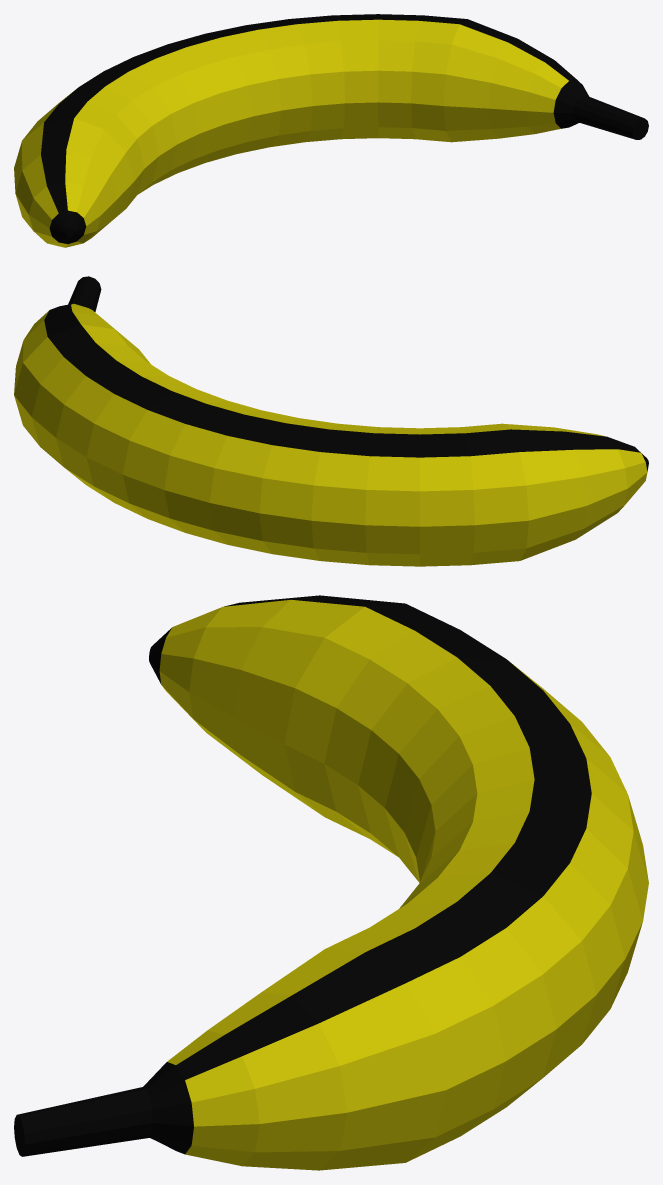
The model's file is banana.obj.
3 renders of one model, top to bottom at view 1: azimuth 30°, elevation 25°; view 2: azimuth 150°, elevation 25°; view 3: azimuth 270°, elevation 25°, orthographic. The views are drawn at different scales.
Parts seen in each view (by area): view 1: Torus.001; view 2: Torus.001; view 3: Torus.001.
Boxes of the visible parts, x1,y1,x2,y2 form: Torus.001: (14, 14, 648, 247); Torus.001: (14, 276, 648, 566); Torus.001: (14, 595, 648, 1170).
Size of the model in its own units: 21.53 by 4.17 by 11.56.
Materials: 1 (1 with a texture image).
